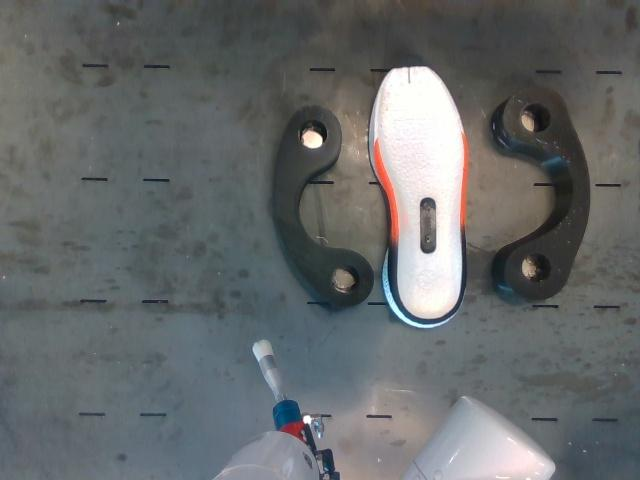shoes: (377, 56, 469, 321)
